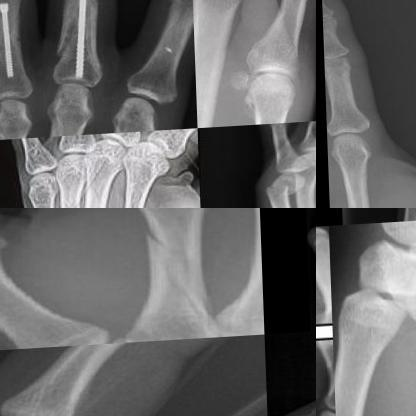fracture: (132, 218, 225, 316), (261, 176, 304, 207)
